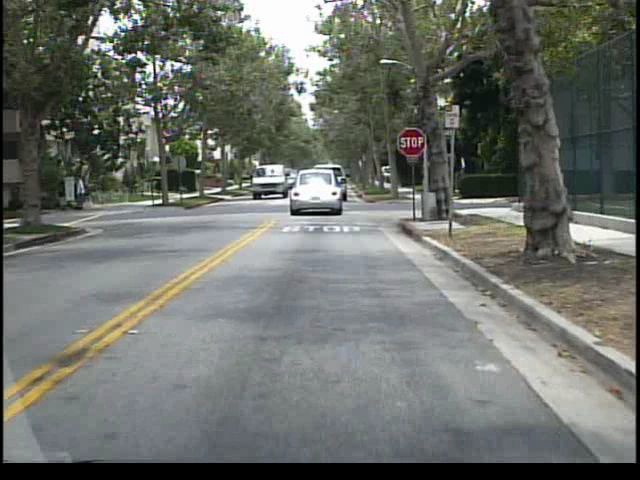person: (76, 167, 91, 213), (57, 168, 72, 213)
